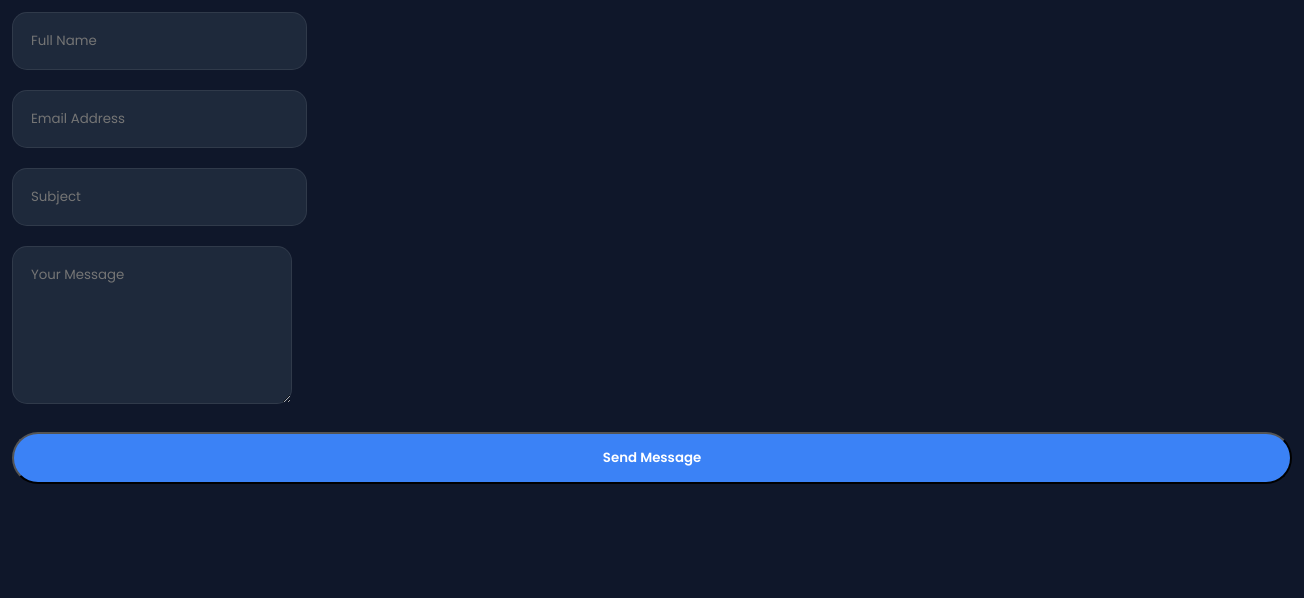
Test case: ContactForm › shows a server error message when the request fails
Step 1. Type "Ada Lovelace" into the field with placeholder "Full Name" → (160, 41), box [12, 12, 307, 70]
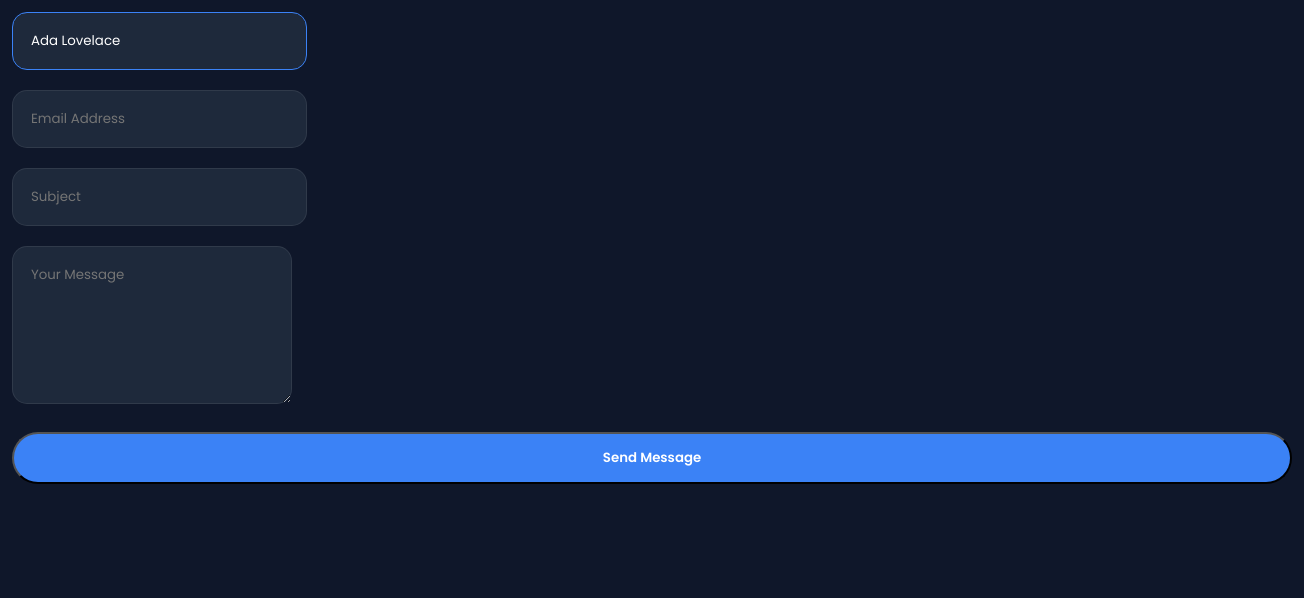
Step 2. Type "ada@example.com" into the field with placeholder "Email Address" → (160, 119), box [12, 90, 307, 148]
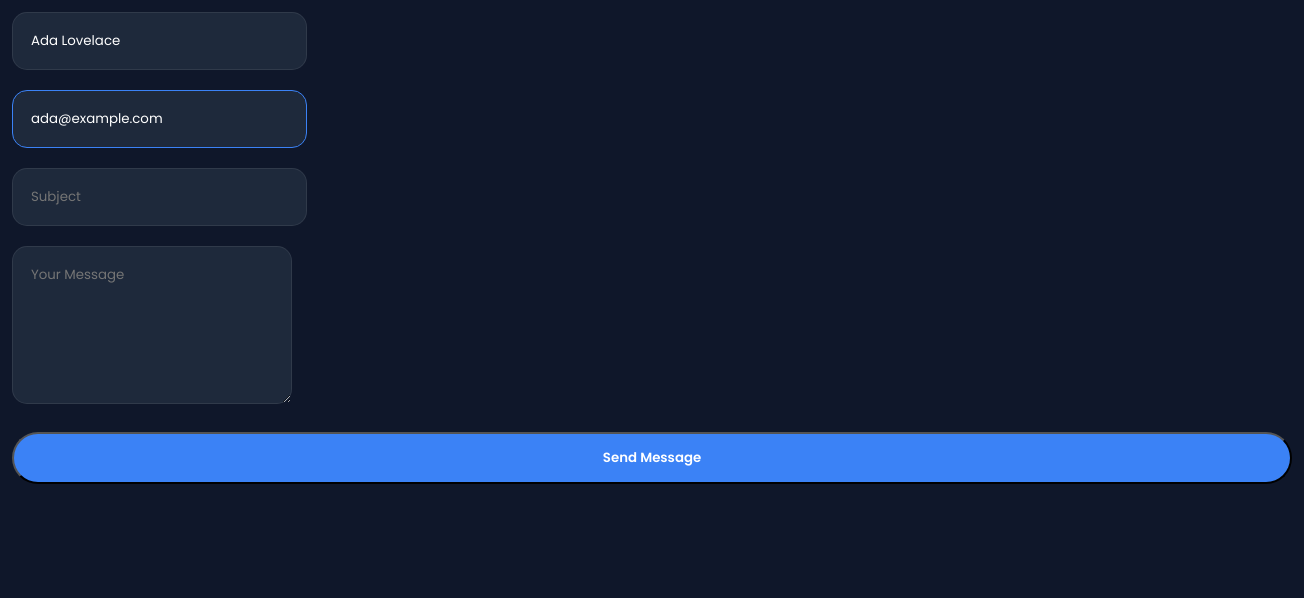
Step 3. Type "I would love to talk about a project with you." into the text box with placeholder "Your Message" → (152, 325), box [12, 246, 292, 404]
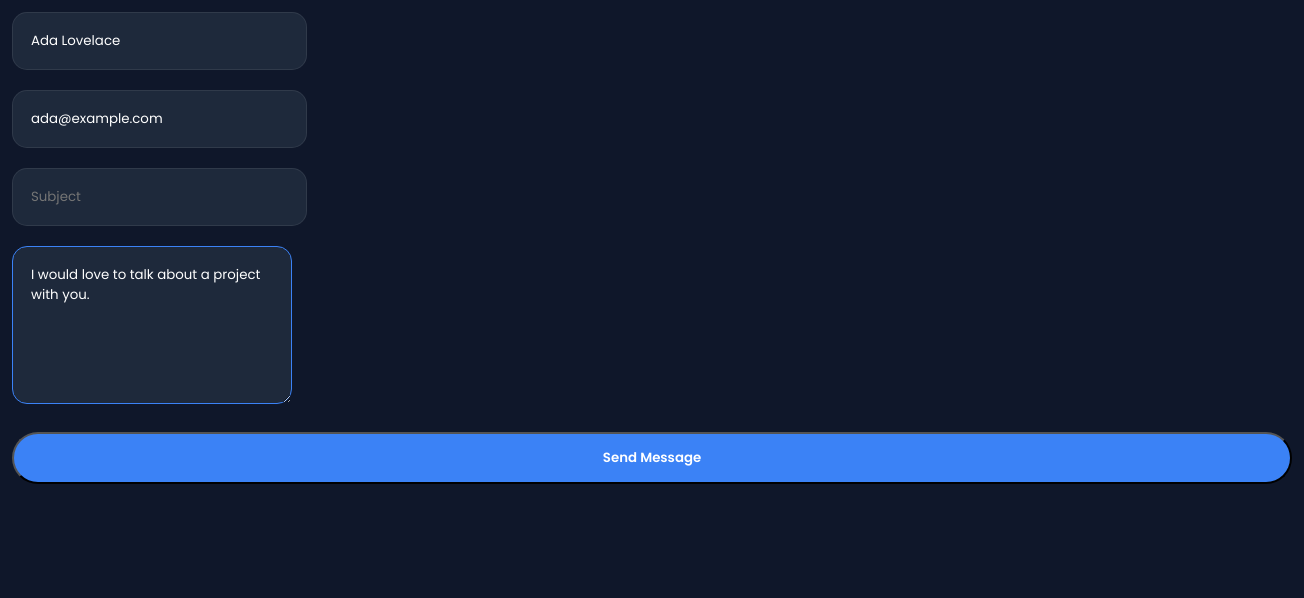
Step 4. Click the button "Send Message" → (652, 458), box [12, 432, 1292, 484]
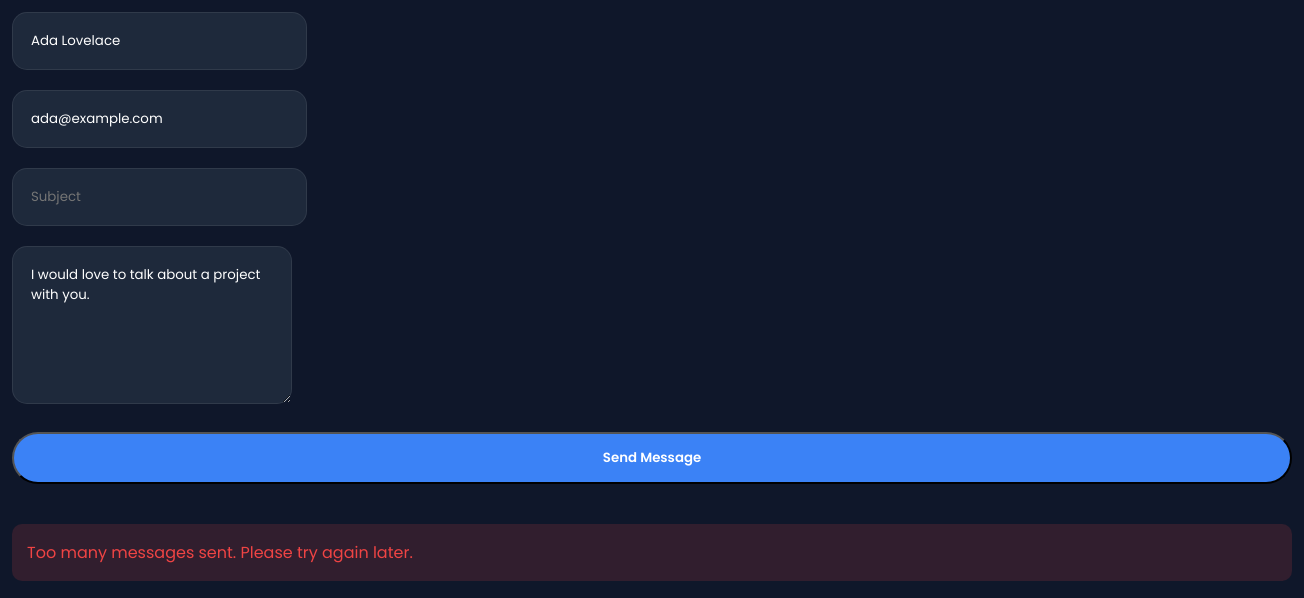
Check: the text "Too many messages sent. Please try again later." is shown, box [12, 524, 1292, 581]
